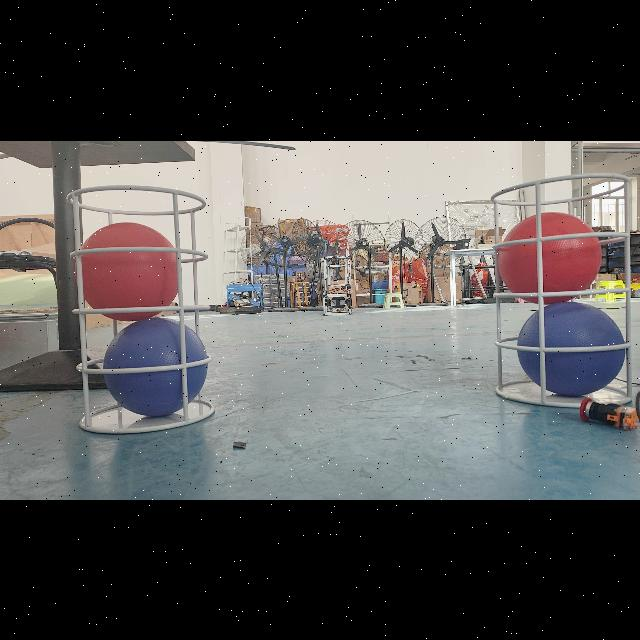B: (101, 317, 210, 419), (518, 300, 630, 396)
R: (75, 221, 182, 321), (499, 212, 601, 304)
S: (62, 178, 222, 434), (484, 172, 640, 414)
